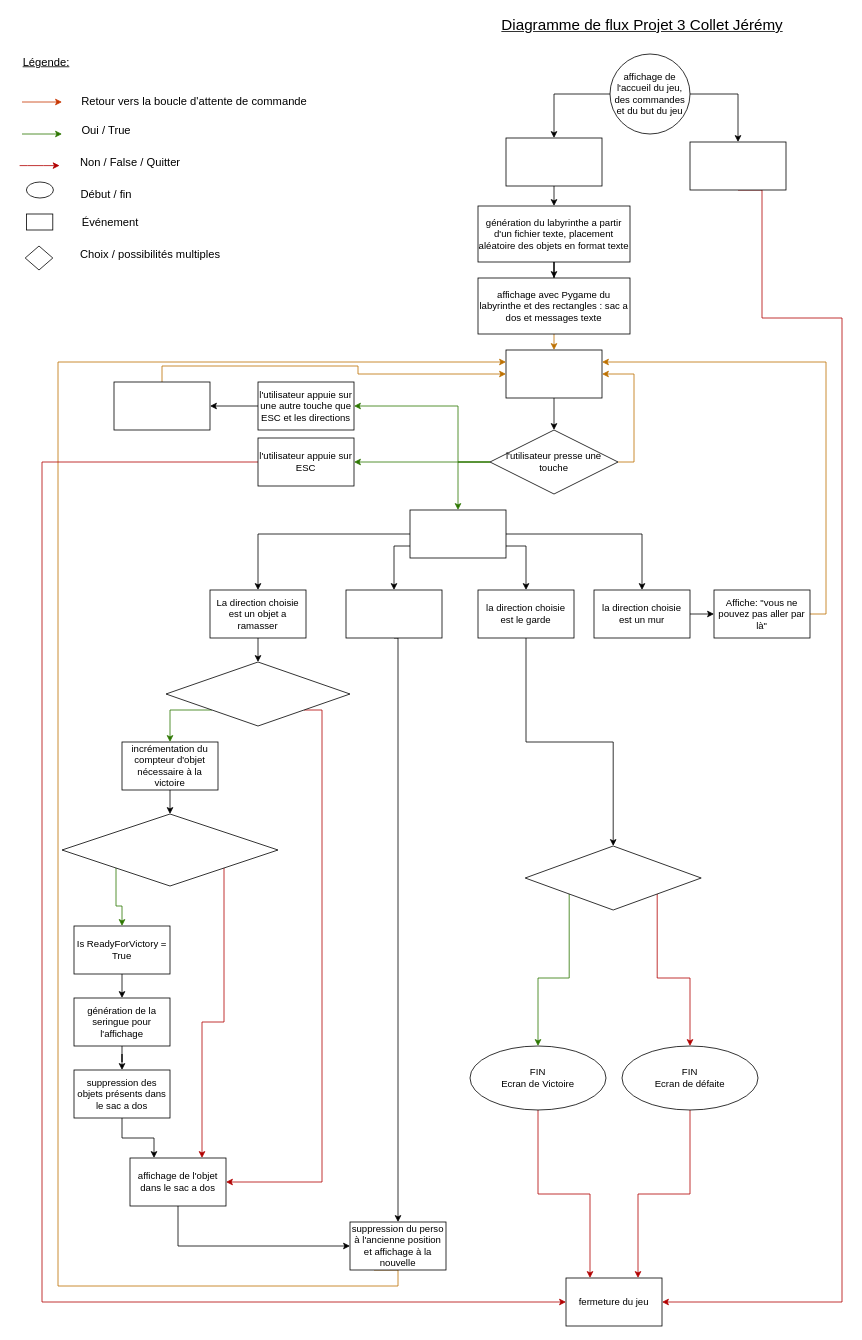
This 862x1340 diagram has some shape labels left out. Here are the shapes that lost their labels. From the top down, the box of each, then its label:
(505, 137, 602, 186): Entrée
(689, 141, 786, 190): ESC
(505, 349, 602, 398): boucle d'attente de commandes
(113, 381, 210, 430): affiche: "touche non fonctionnelle" et rappel des commandes
(409, 509, 506, 558): Touches déplacements
(345, 589, 442, 638): La direction choisie est un chemin
(165, 661, 350, 726): vérification de la propriété "UsefullForVictory" de l'objet
(61, 813, 278, 886): Compteur d'objet nécessaire à la victoire = 3
(524, 845, 701, 910): Vérification du booléen "IsReadyForVictory"
